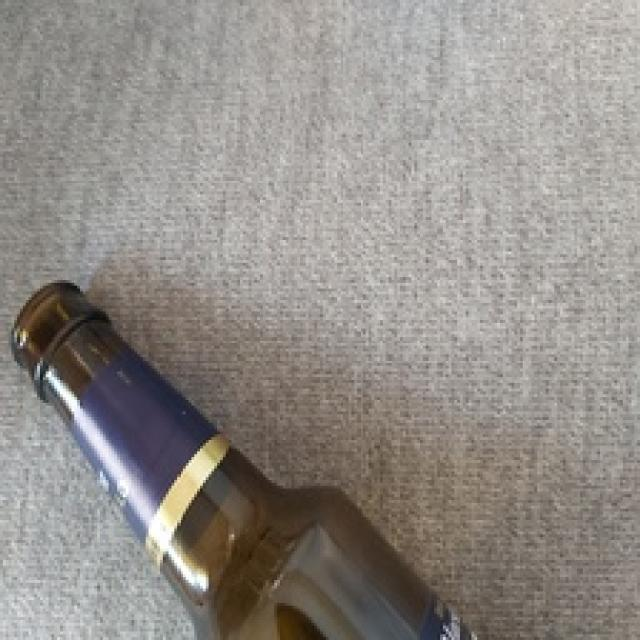Glass: (8, 275, 480, 640)
